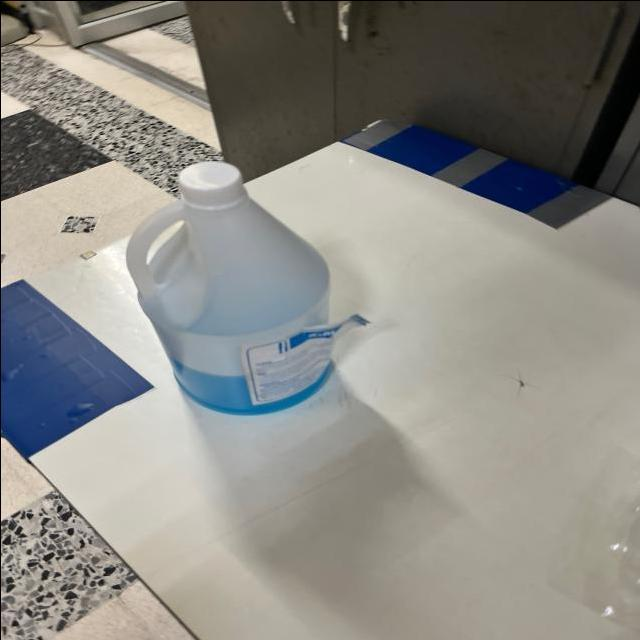HDPE Plastic: (111, 159, 353, 417)
